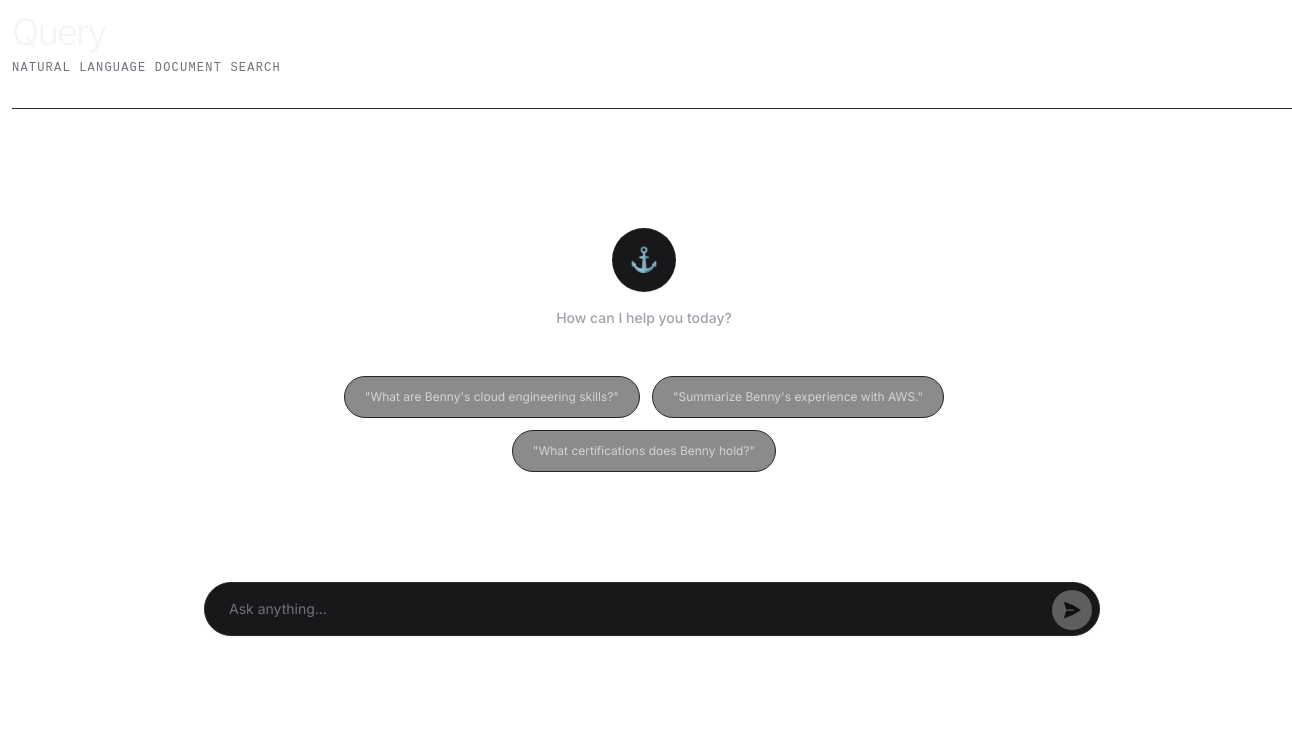
ChatPage UI - Gemini 429 Rate Limit Handling › sanitizes non-rate-limit 500 raw JSON errors without showing rate limit banner
Type "Search anything" into the field with placeholder "Ask anything...".
click(652, 609); type("Search anything")  # box [204, 582, 1100, 636]
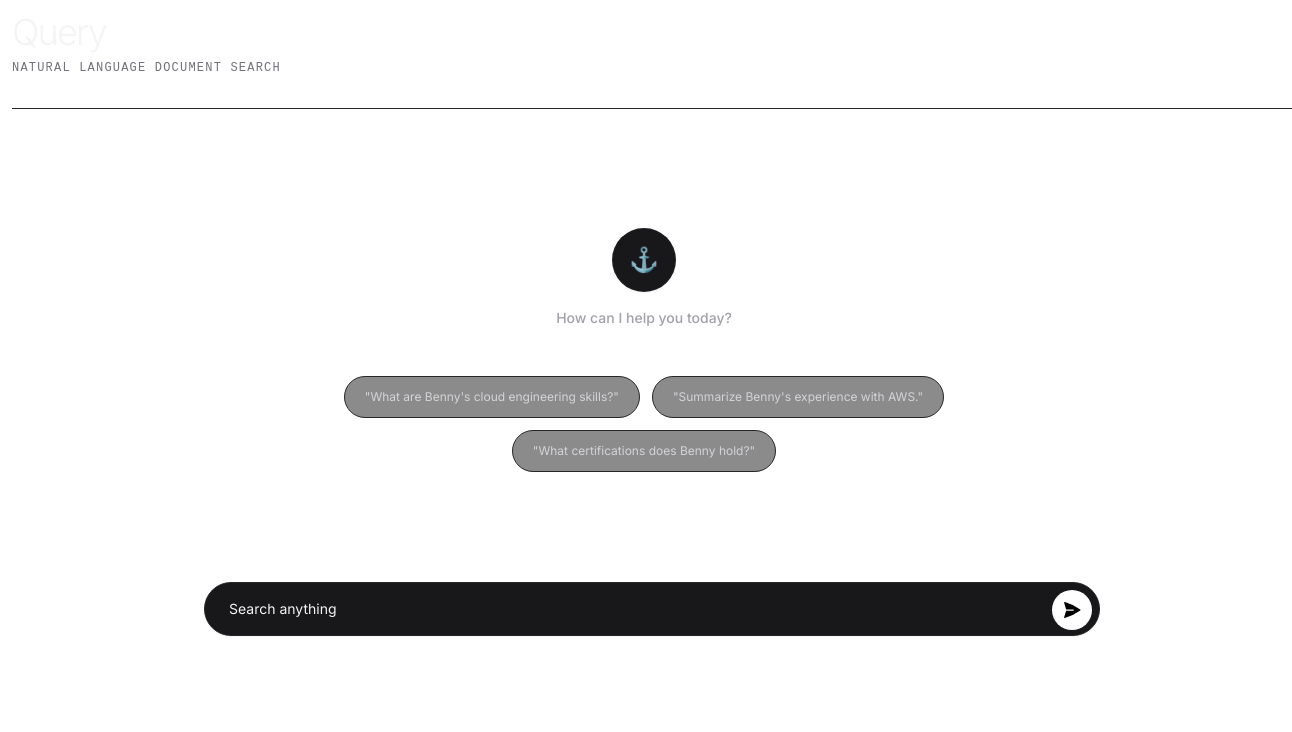
Click the 4th button.
click(1072, 610)  # box [1052, 590, 1092, 630]
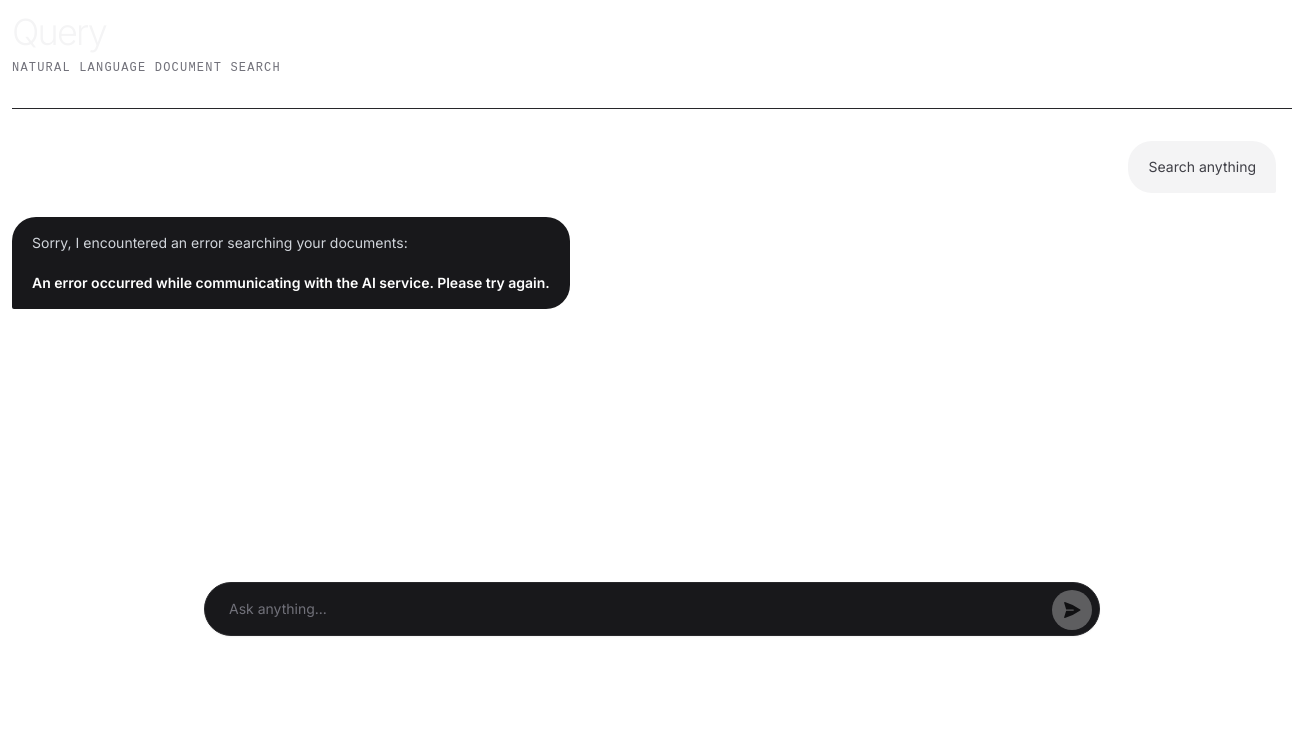
Expected: the text "communicating with the AI service" is shown, [32, 274, 550, 291]
